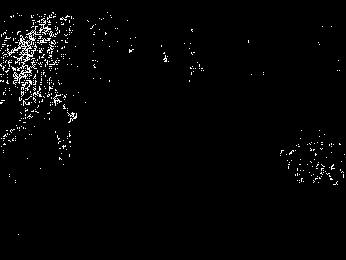person: (48, 95, 79, 160)
